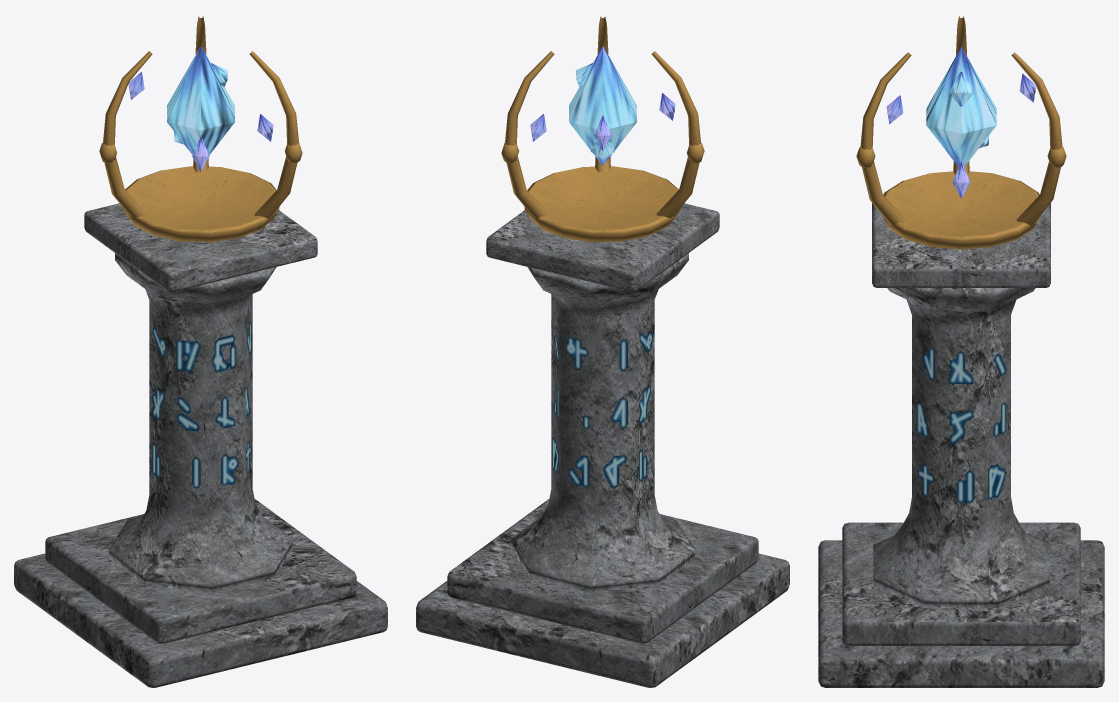
Rendered from prop_crystalPedestal.glb.
The picture shows the model from 3 angles, left to right: view 1: azimuth 30°, elevation 25°; view 2: azimuth 150°, elevation 25°; view 3: azimuth 270°, elevation 25°; orthographic projection. The views are drawn at different scales.
Visible parts, largest first — view 1: prop (×3); view 2: prop (×3); view 3: prop (×3).
Part boxes in pixels (bbox=[...]): prop (×3): bbox=[14, 16, 387, 687]; prop (×3): bbox=[416, 16, 789, 687]; prop (×3): bbox=[818, 16, 1104, 687].
Bounding box in the file's own units: 0.48 × 1.09 × 0.48.
5 materials, 5 textured.
